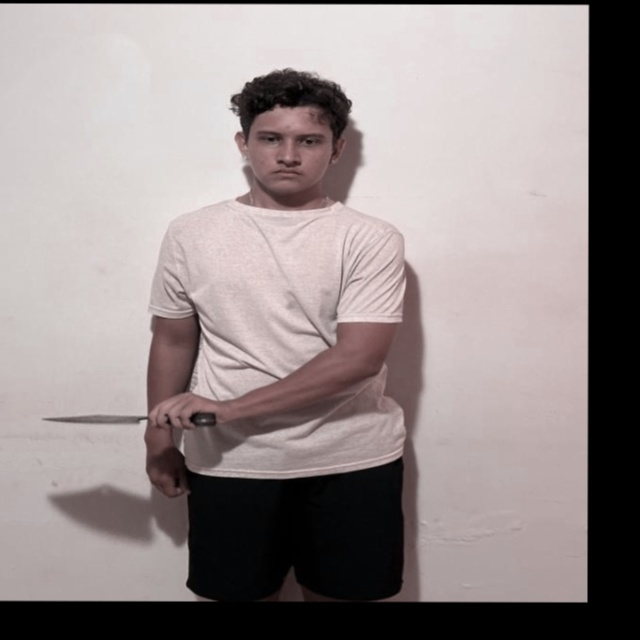Sharp-Object: (40, 412, 136, 424)
